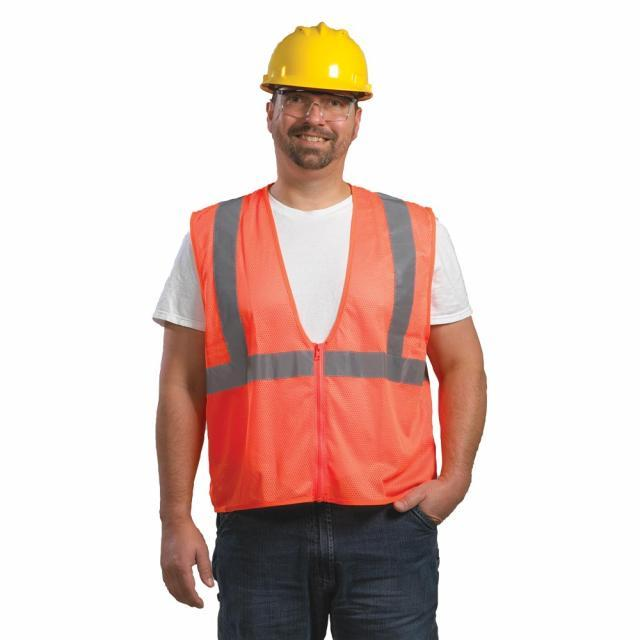safetyhelmet: (250, 17, 378, 151)
